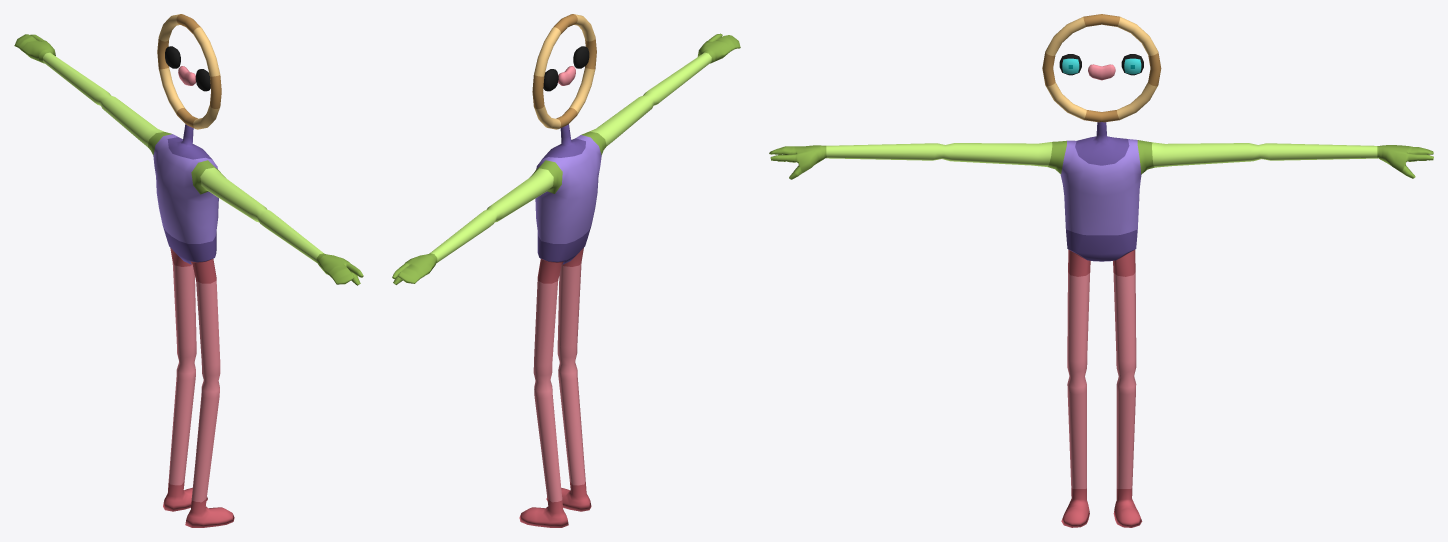
File: Circle_Face_Character.glb
The picture shows the model from 3 angles, left to right: view 1: azimuth 30°, elevation 25°; view 2: azimuth 150°, elevation 25°; view 3: azimuth 270°, elevation 25°; orthographic projection.
Visible parts, largest first — view 1: Body_3; view 2: Body_3; view 3: Body_3.
Boxes of the visible parts, x1=… form: Body_3: x1=14, y1=14, x2=363, y2=527; Body_3: x1=392, y1=14, x2=740, y2=527; Body_3: x1=769, y1=14, x2=1433, y2=527.
Bounding box in the file's own units: 0.7783 × 6.54 × 7.9.
1 material, 1 textured.
